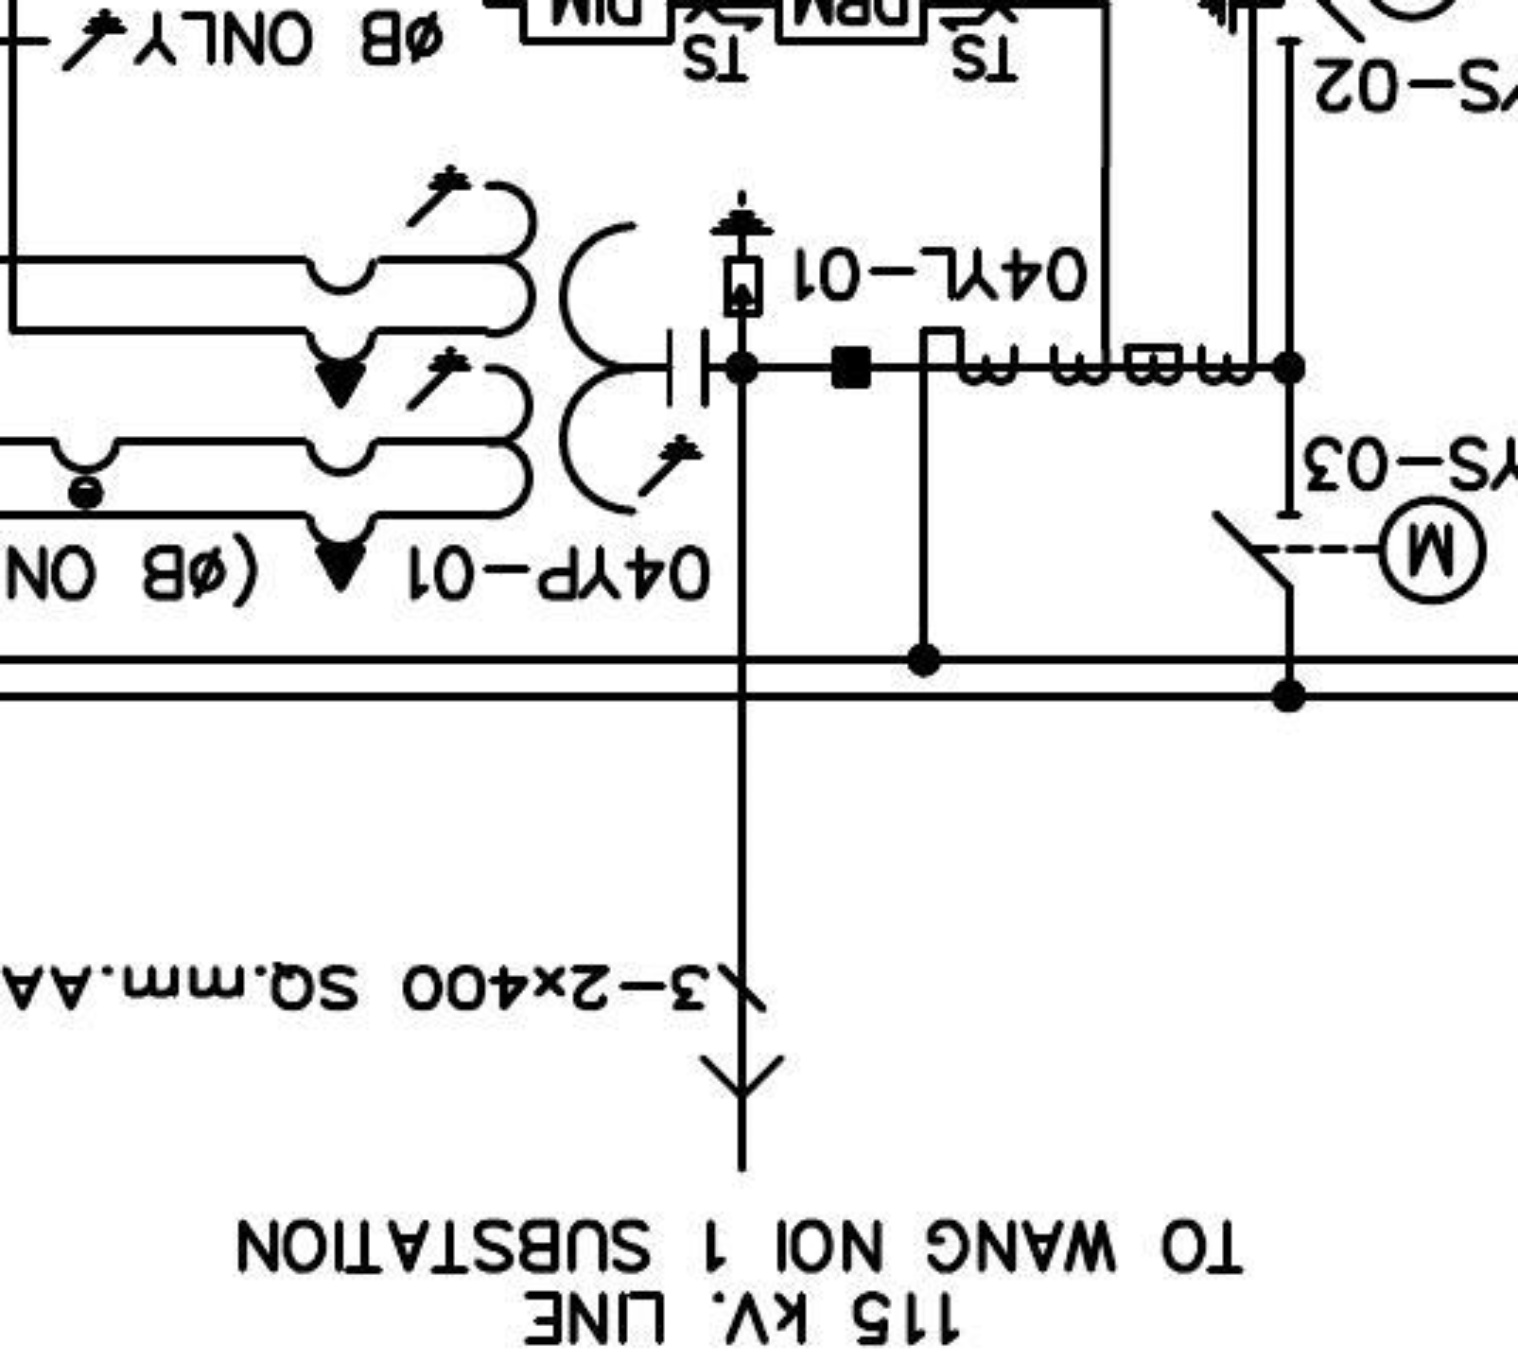115_1way_ds_w_motor: (1209, 493, 1489, 609)
115_cvt_1p: (298, 160, 711, 594)
115_la: (708, 187, 775, 318)
